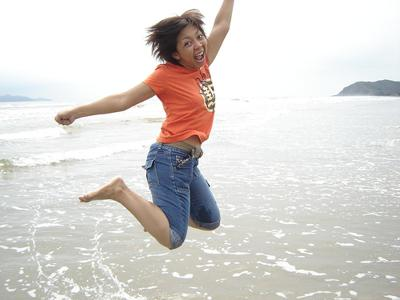person: (55, 2, 238, 249)
